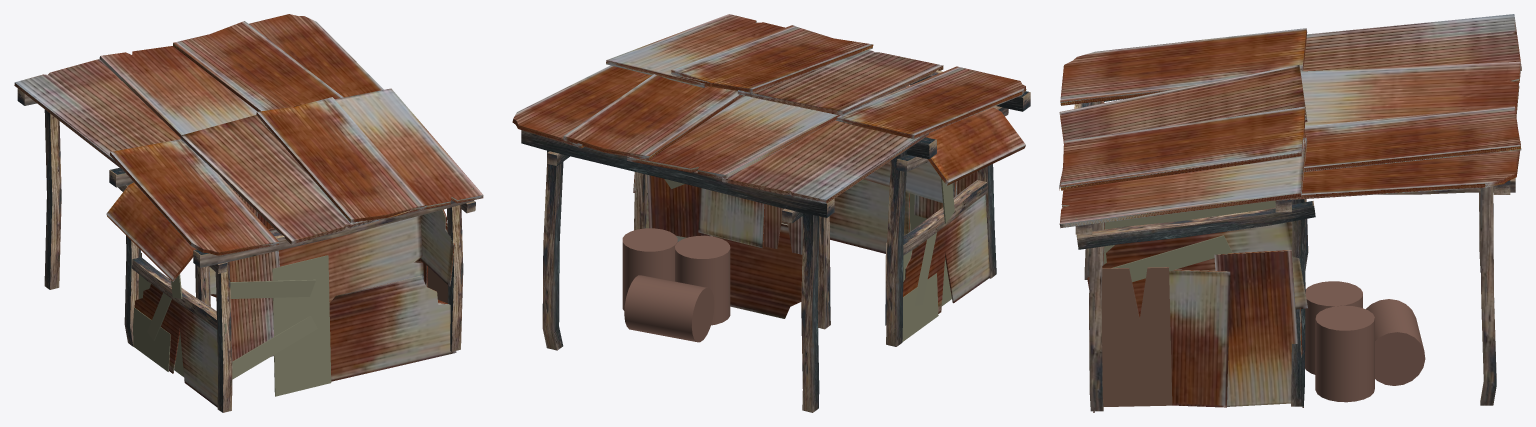
The model's file is river-shack.zfix-v1.lod1.glb.
The picture shows the model from 3 angles, left to right: view 1: azimuth 30°, elevation 25°; view 2: azimuth 150°, elevation 25°; view 3: azimuth 270°, elevation 25°; orthographic projection. The views are drawn at different scales.
Visible parts, largest first — view 1: pCube1_lambert2_0, pCube4_lambert4_0, pasted__pCube3_pasted__lambert3_0; view 2: pCube1_lambert2_0, pCube4_lambert4_0, pasted__pCube3_pasted__lambert3_0; view 3: pCube1_lambert2_0, pasted__pCube3_pasted__lambert3_0, pCube4_lambert4_0.
Boxes of the visible parts, box(x1,y1,x2,y2) form: pCube1_lambert2_0: box(14, 14, 483, 407); pCube4_lambert4_0: box(17, 88, 475, 412); pasted__pCube3_pasted__lambert3_0: box(133, 223, 447, 396); pCube1_lambert2_0: box(512, 14, 1026, 318); pCube4_lambert4_0: box(521, 17, 1030, 412); pasted__pCube3_pasted__lambert3_0: box(622, 178, 954, 342); pCube1_lambert2_0: box(1059, 14, 1521, 412); pasted__pCube3_pasted__lambert3_0: box(1102, 201, 1425, 406); pCube4_lambert4_0: box(1074, 98, 1515, 411).
Bounding box in the file's own units: 4.47 × 2.96 × 5.
Materials: 3 (2 with a texture image).
